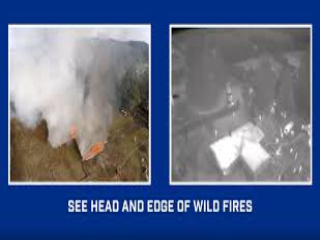smoke: (12, 36, 124, 152)
